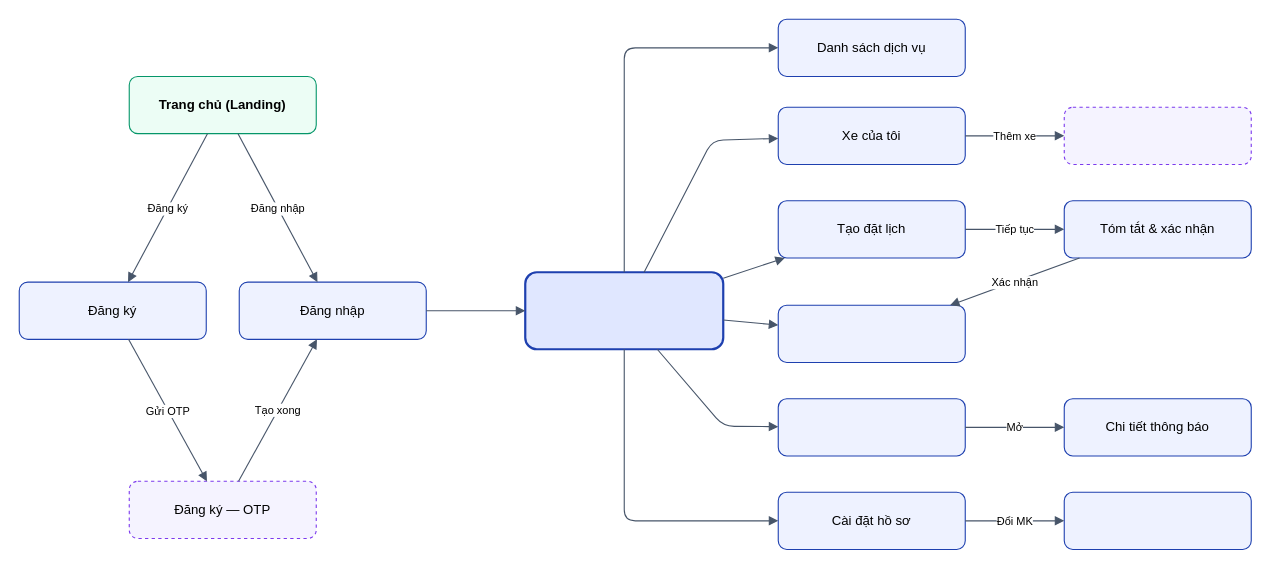
Image size: 1271x569. Some labels were removed from this diagram. Each missing label, with the box of its shape:
Thêm xe (OTP): (1063, 106, 1251, 164)
Thông báo: (777, 398, 965, 456)
Trang chủ khách hàng: (524, 271, 724, 350)
Đặt lịch của tôi: (777, 304, 965, 362)
Đổi mật khẩu: (1063, 491, 1251, 549)
